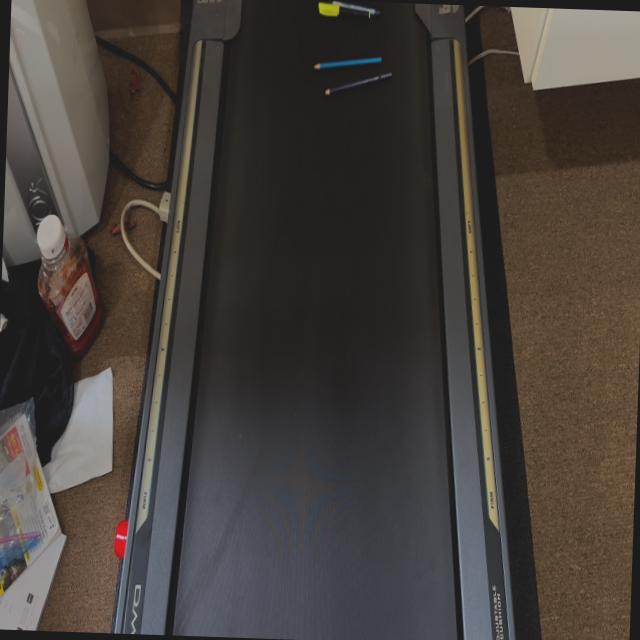Trash: (322, 67, 393, 99), (312, 52, 383, 73), (316, 4, 370, 22), (331, 0, 380, 15)
